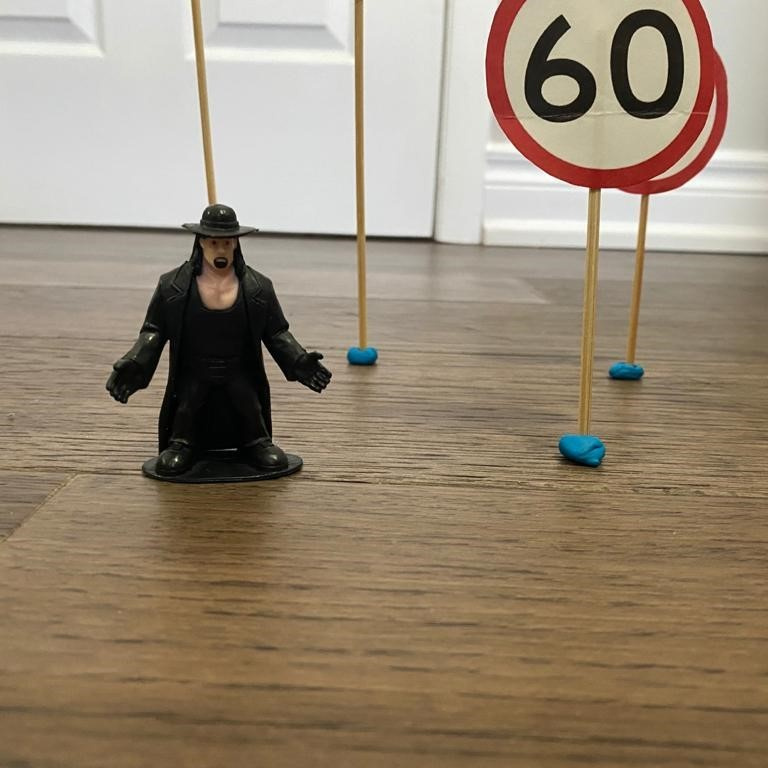Person: (98, 200, 338, 499)
